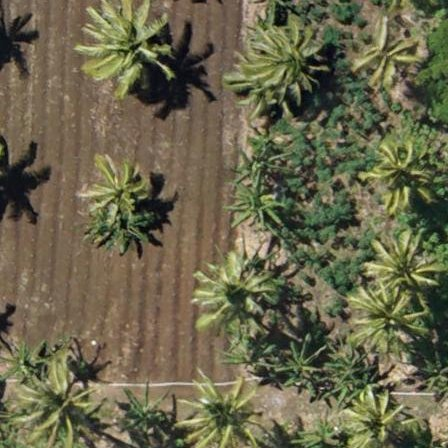palm_tree: (193, 244, 275, 331), (83, 1, 167, 85), (240, 20, 321, 107), (367, 226, 442, 306), (181, 372, 259, 448), (363, 137, 438, 211), (348, 276, 420, 353), (18, 368, 90, 444), (351, 11, 421, 85), (80, 152, 149, 226), (337, 387, 416, 448)
